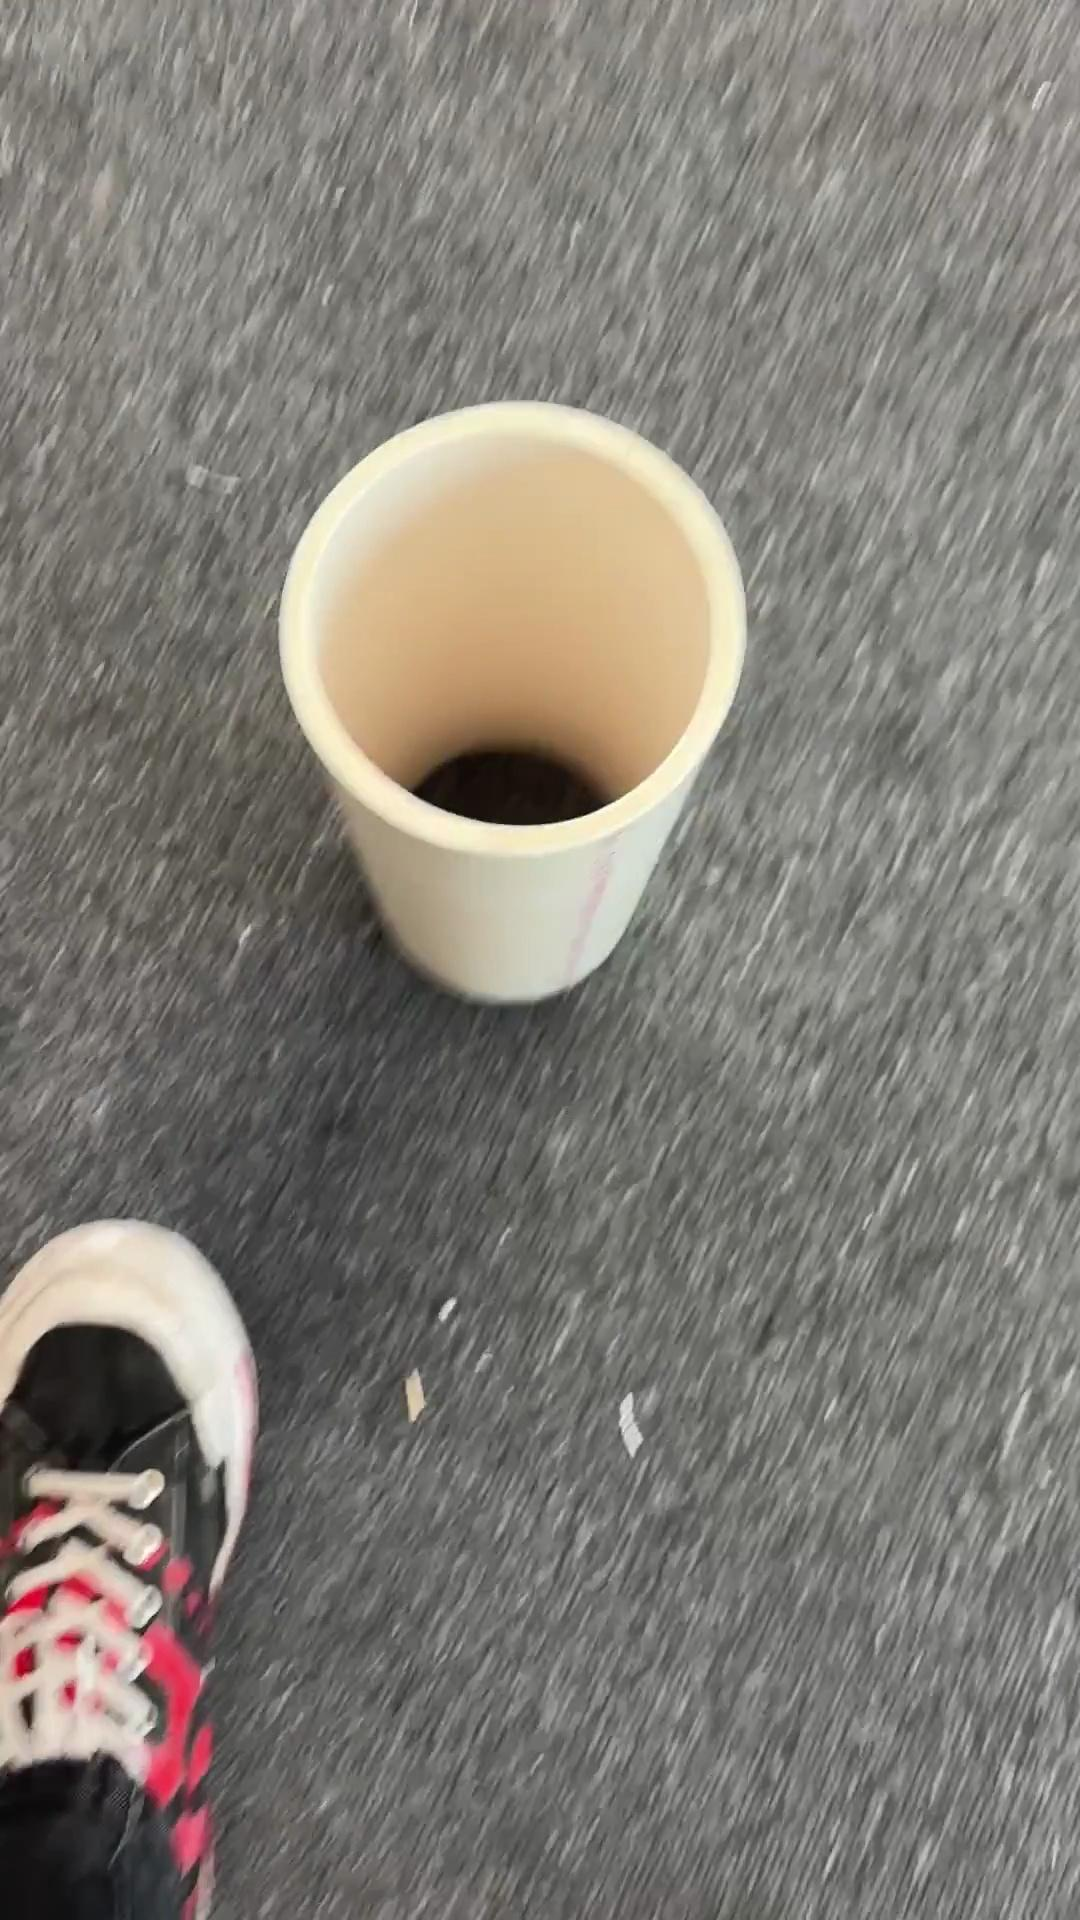CORAL: (274, 396, 750, 1007)
